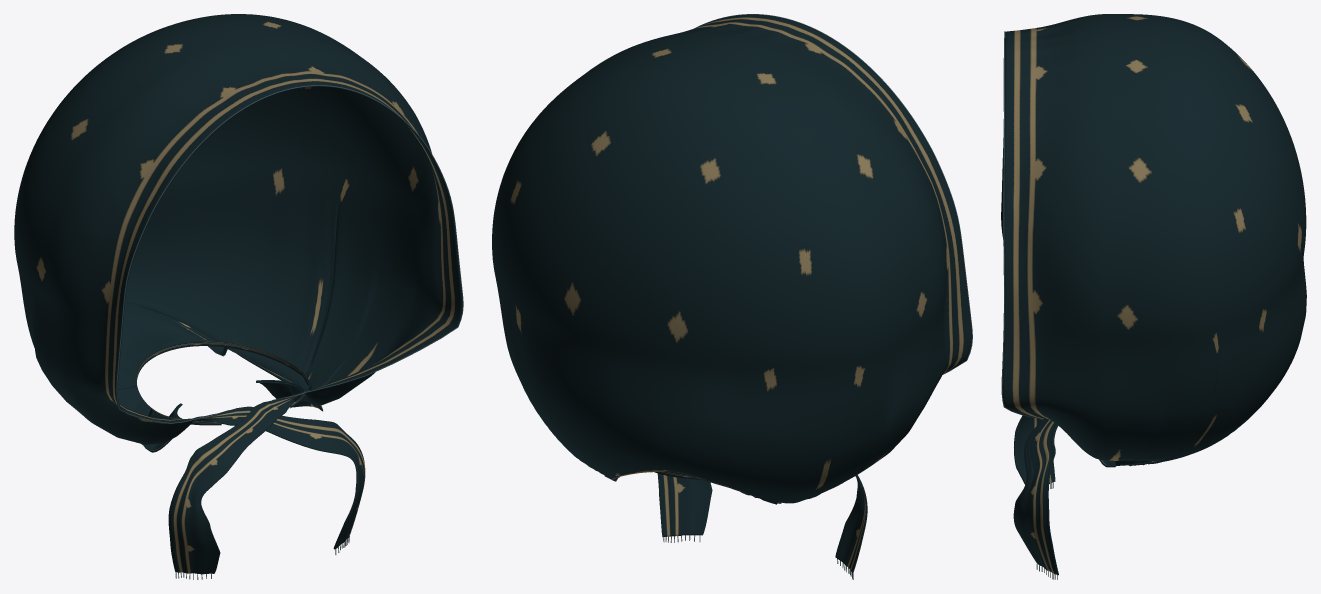
Rendered from Feminine-ponytail-sweatshirt-pashmina251-headgear.glb.
3 views of the same model, side by side, from view 1: azimuth 30°, elevation 25°; view 2: azimuth 150°, elevation 25°; view 3: azimuth 270°, elevation 25° (orthographic). The views are drawn at different scales.
Visible parts, largest first — view 1: 226 headgear / Headwear / continuous woven pashmina239, 226 headgear / Headwear / face edge239; view 2: 226 headgear / Headwear / continuous woven pashmina239, 226 headgear / Headwear / face edge239; view 3: 226 headgear / Headwear / continuous woven pashmina239, 226 headgear / Headwear / face edge239.
Part boxes in pixels (box(x1,y1,x2,y2)): 226 headgear / Headwear / continuous woven pashmina239: box(14, 14, 462, 574); 226 headgear / Headwear / face edge239: box(116, 85, 463, 423); 226 headgear / Headwear / continuous woven pashmina239: box(492, 14, 971, 573); 226 headgear / Headwear / face edge239: box(694, 14, 972, 374); 226 headgear / Headwear / continuous woven pashmina239: box(1001, 14, 1306, 575); 226 headgear / Headwear / face edge239: box(1001, 31, 1042, 418).
Size of the model in its own units: 1.07 by 1.38 by 0.7569.
Materials: 3 (1 with a texture image).
